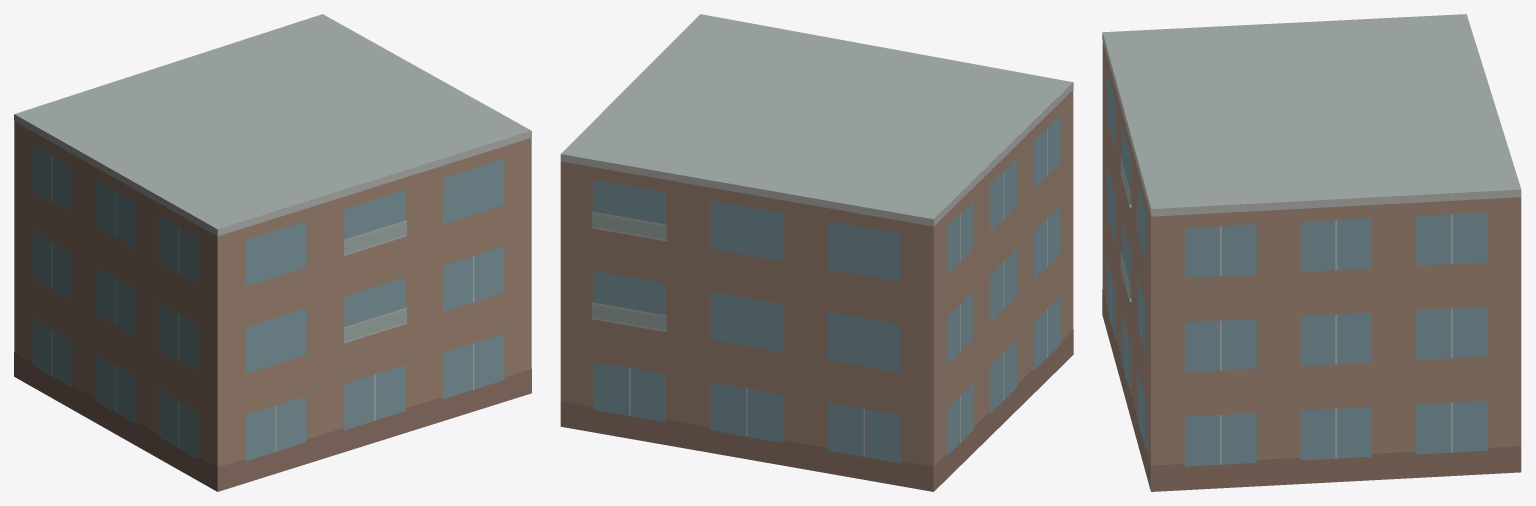
Rendered from survey-upis-32661364.glb.
3 renders of one model, left to right at view 1: azimuth 30°, elevation 25°; view 2: azimuth 150°, elevation 25°; view 3: azimuth 270°, elevation 25°, orthographic. The views are drawn at different scales.
Parts seen in each view (by area): view 1: survey-upis-32661364.tmp; view 2: survey-upis-32661364.tmp; view 3: survey-upis-32661364.tmp.
Part boxes in pixels (bbox=[...]): survey-upis-32661364.tmp: bbox=[14, 14, 531, 491]; survey-upis-32661364.tmp: bbox=[560, 14, 1073, 491]; survey-upis-32661364.tmp: bbox=[1102, 14, 1521, 491].
Bounding box in the file's own units: 13.55 × 9.15 × 12.3.
